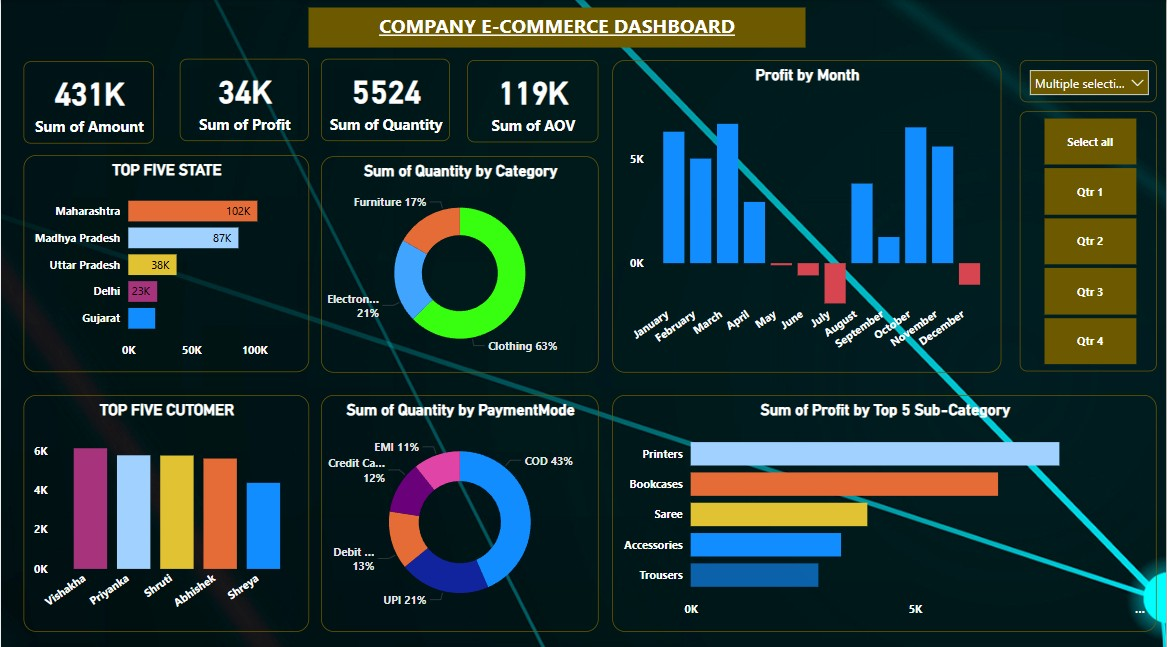

What the dashboard file says about the page in this screenshot:
{"tool":"powerbi","page":{"name":"COMPANY E-COMMERCE DASHBOARD","canvas":[1280,720],"ordinal":0},"visuals":[{"type":"textbox","box":[338.2,8.3,545.8,43.9],"z":0},{"type":"clusteredColumnChart","title":"Profit by Month","fields":{"Category":["Orders.Order Date.Variation.Date Hierarchy.Month"],"Y":["Details.Profit"]},"box":[670.4,66.4,427.1,342.9],"z":1000},{"type":"barChart","title":"Sum of Profit by Top 5 Sub-Category","fields":{"Y":["Details.Profit"],"Category":["Details.Sub-Category"]},"box":[670.4,434.3,598,259.8],"z":2000},{"type":"donutChart","fields":{"Y":["Details.Quantity"],"Category":["Details.Category"]},"box":[351.2,171.2,305,237.5],"z":3000},{"type":"donutChart","fields":{"Y":["Details.Quantity"],"Category":["Details.PaymentMode"]},"box":[351.2,433.8,305,260],"z":4000},{"type":"barChart","title":"TOP FIVE STATE","fields":{"Category":["Orders.State"],"Y":["Details.Amount"]},"box":[25,170,313.3,238.3],"z":5000},{"type":"columnChart","title":"TOP FIVE CUTOMER","fields":{"Category":["Orders.CustomerName"],"Y":["Details.Amount"]},"box":[25,433.3,313.3,260],"z":6000},{"type":"card","fields":{"Values":["Details.Amount"]},"box":[25,66.7,143.3,90],"z":7000},{"type":"card","fields":{"Values":["Details.Profit"]},"box":[196.7,65,141.7,90],"z":8000},{"type":"card","fields":{"Values":["Details.Quantity"]},"box":[351.7,65,141.7,90],"z":9000},{"type":"card","fields":{"Values":["Details.AOV"]},"box":[512.5,66.2,143.8,90],"z":10000},{"type":"slicer","fields":{"Values":["Orders.Order Date.Variation.Date Hierarchy.Quarter"]},"box":[1117.7,122.2,150.7,285.9],"z":11000},{"type":"slicer","fields":{"Values":["Orders.State"]},"box":[1117.7,65.3,150.7,46.3],"z":12000}]}

Visuals, with their boxes in screenshot pixels (x1, y1, x2, y2), scaled from the page's 1280x720 canvas onto the 1167x647 screenshot:
textbox: box=[308, 7, 806, 47]
"Profit by Month" clusteredColumnChart: box=[611, 60, 1001, 368]
"Sum of Profit by Top 5 Sub-Category" barChart: box=[611, 390, 1156, 624]
donutChart - Details.Quantity x Details.Category: box=[320, 154, 598, 367]
donutChart - Details.Quantity x Details.PaymentMode: box=[320, 390, 598, 623]
"TOP FIVE STATE" barChart: box=[23, 153, 308, 367]
"TOP FIVE CUTOMER" columnChart: box=[23, 389, 308, 623]
card - Details.Amount: box=[23, 60, 153, 141]
card - Details.Profit: box=[179, 58, 309, 139]
card - Details.Quantity: box=[321, 58, 450, 139]
card - Details.AOV: box=[467, 59, 598, 140]
slicer - Orders.Order Date.Variation.Date Hierarchy.Quarter: box=[1019, 110, 1156, 367]
slicer - Orders.State: box=[1019, 59, 1156, 100]
